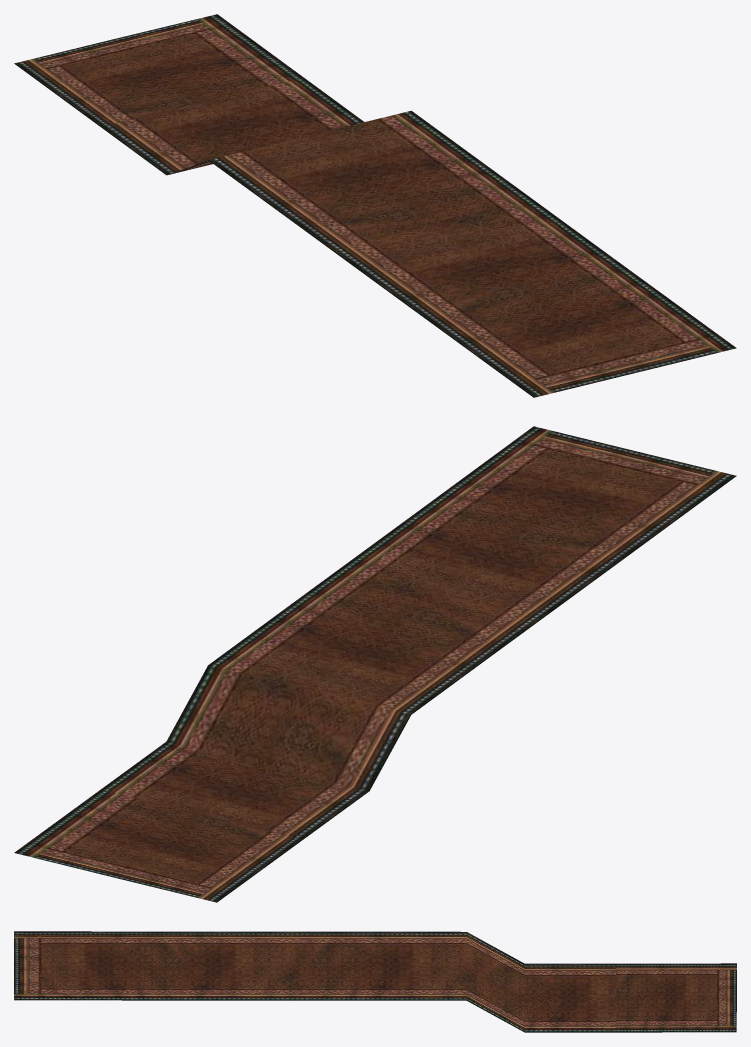
3 views of the same model, one above another, from view 1: azimuth 30°, elevation 25°; view 2: azimuth 150°, elevation 25°; view 3: azimuth 270°, elevation 25° (orthographic). The views are drawn at different scales.
Visible parts, largest first — view 1: Plane07; view 2: Plane07; view 3: Plane07.
Part boxes in pixels (box(x1,y1,x2,y2)): Plane07: box(14, 14, 736, 397); Plane07: box(14, 426, 736, 902); Plane07: box(14, 931, 736, 1032).
Bounding box in the file's own units: 149 × 32.57 × 661.
